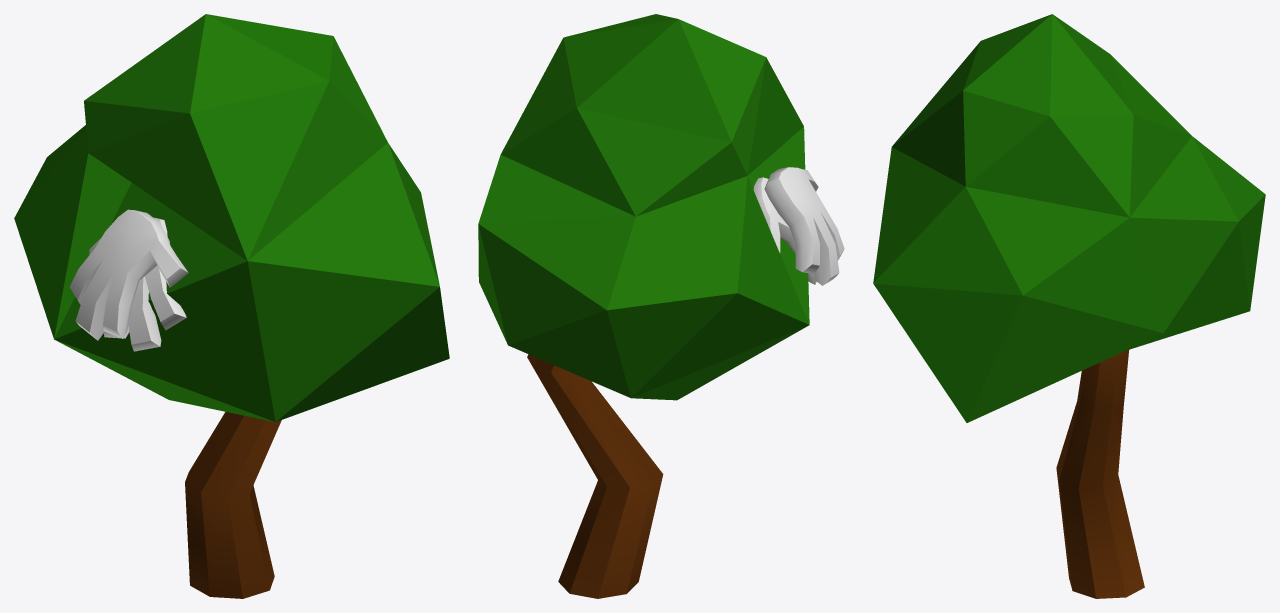
The model's file is tree-03-rayman-gloves.fbx.
3 views of the same model, side by side, from view 1: azimuth 30°, elevation 25°; view 2: azimuth 150°, elevation 25°; view 3: azimuth 270°, elevation 25° (orthographic). The views are drawn at different scales.
Parts seen in each view (by area): view 1: tree_03_tree, trunk, raymanGlove, raymanGlove1; view 2: tree_03_tree, trunk, raymanGlove, raymanGlove1; view 3: tree_03_tree, trunk.
Part boxes in pixels (x1,y1,x2,y2): tree_03_tree: [14, 14, 449, 421]; trunk: [185, 412, 281, 598]; raymanGlove: [69, 209, 188, 340]; raymanGlove1: [89, 217, 186, 351]; tree_03_tree: [478, 14, 809, 400]; trunk: [527, 354, 663, 598]; raymanGlove: [764, 167, 844, 285]; raymanGlove1: [753, 177, 816, 284]; tree_03_tree: [873, 14, 1265, 422]; trunk: [1056, 349, 1144, 598].
Size of the model in its own units: 2.62 by 4.35 by 2.85.
